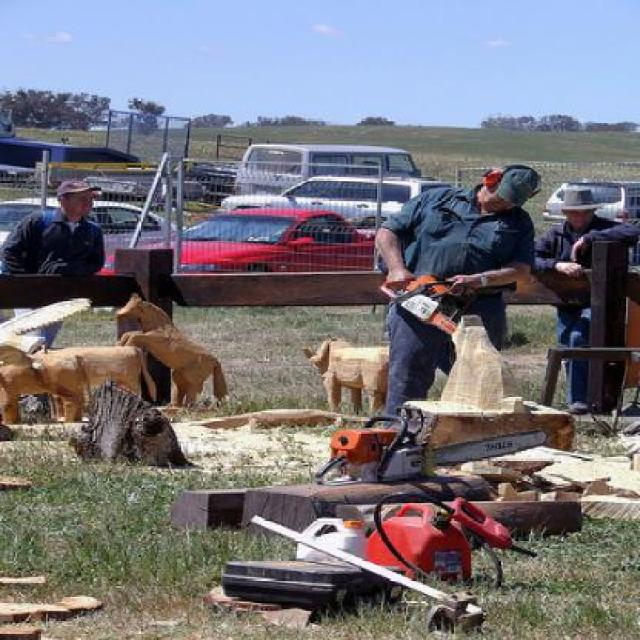Chainsaw: (312, 406, 552, 485), (378, 274, 471, 329)
